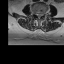CCS_normal: (38, 11, 40, 20)
LFS_normal: (42, 11, 44, 17)
LLS_normal: (40, 11, 42, 18)
RFS_stenosis: (34, 11, 36, 16)
RLS_normal: (36, 11, 38, 17)
